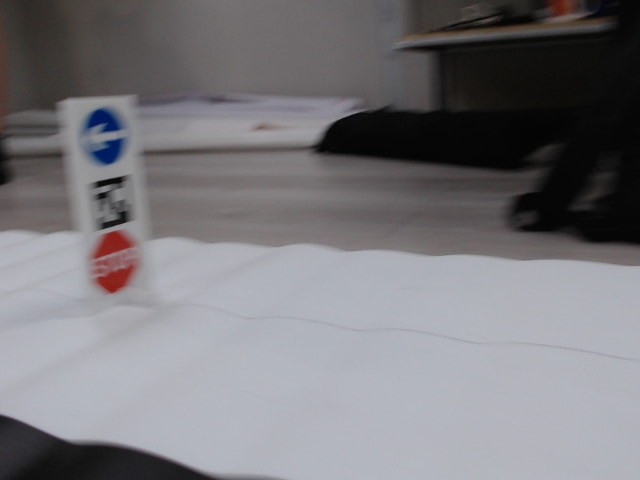Stop: (92, 231, 138, 292)
